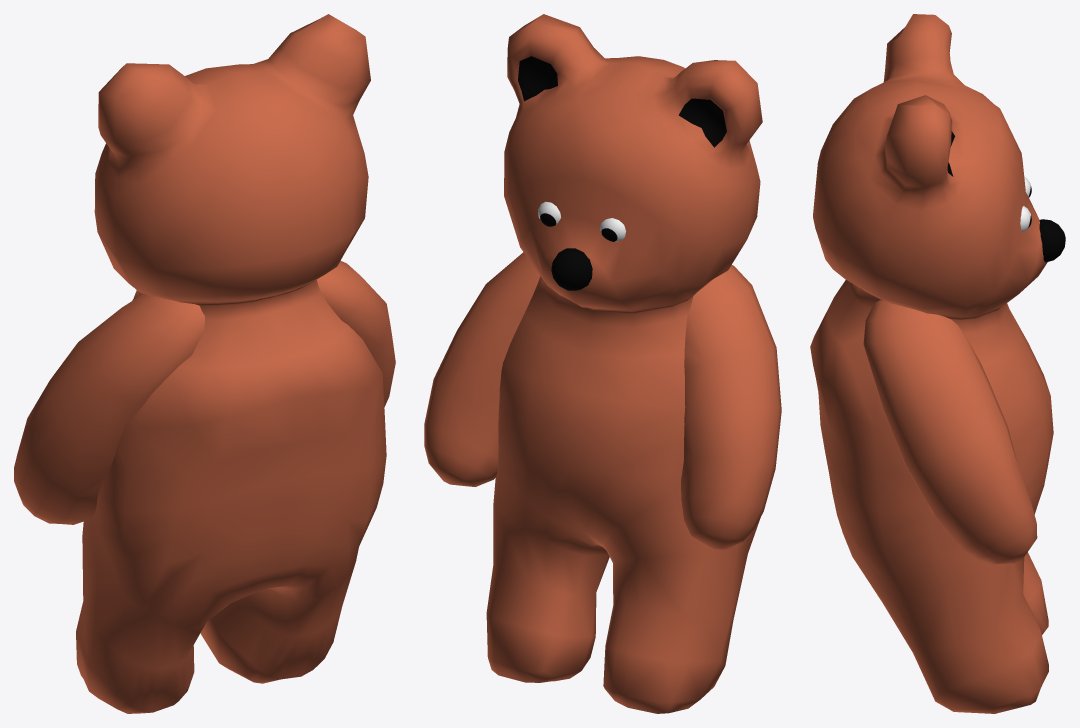
Rendered from BearBackpack.fbx.
3 views of the same model, side by side, from view 1: azimuth 30°, elevation 25°; view 2: azimuth 150°, elevation 25°; view 3: azimuth 270°, elevation 25° (orthographic). The views are drawn at different scales.
Parts seen in each view (by area): view 1: bear; view 2: bear; view 3: bear.
Part boxes in pixels (x1,y1,x2,y2): bear: [14, 14, 395, 713]; bear: [424, 14, 781, 713]; bear: [810, 14, 1065, 713].
Size of the model in its own units: 0.3929 by 0.7075 by 0.2662.
